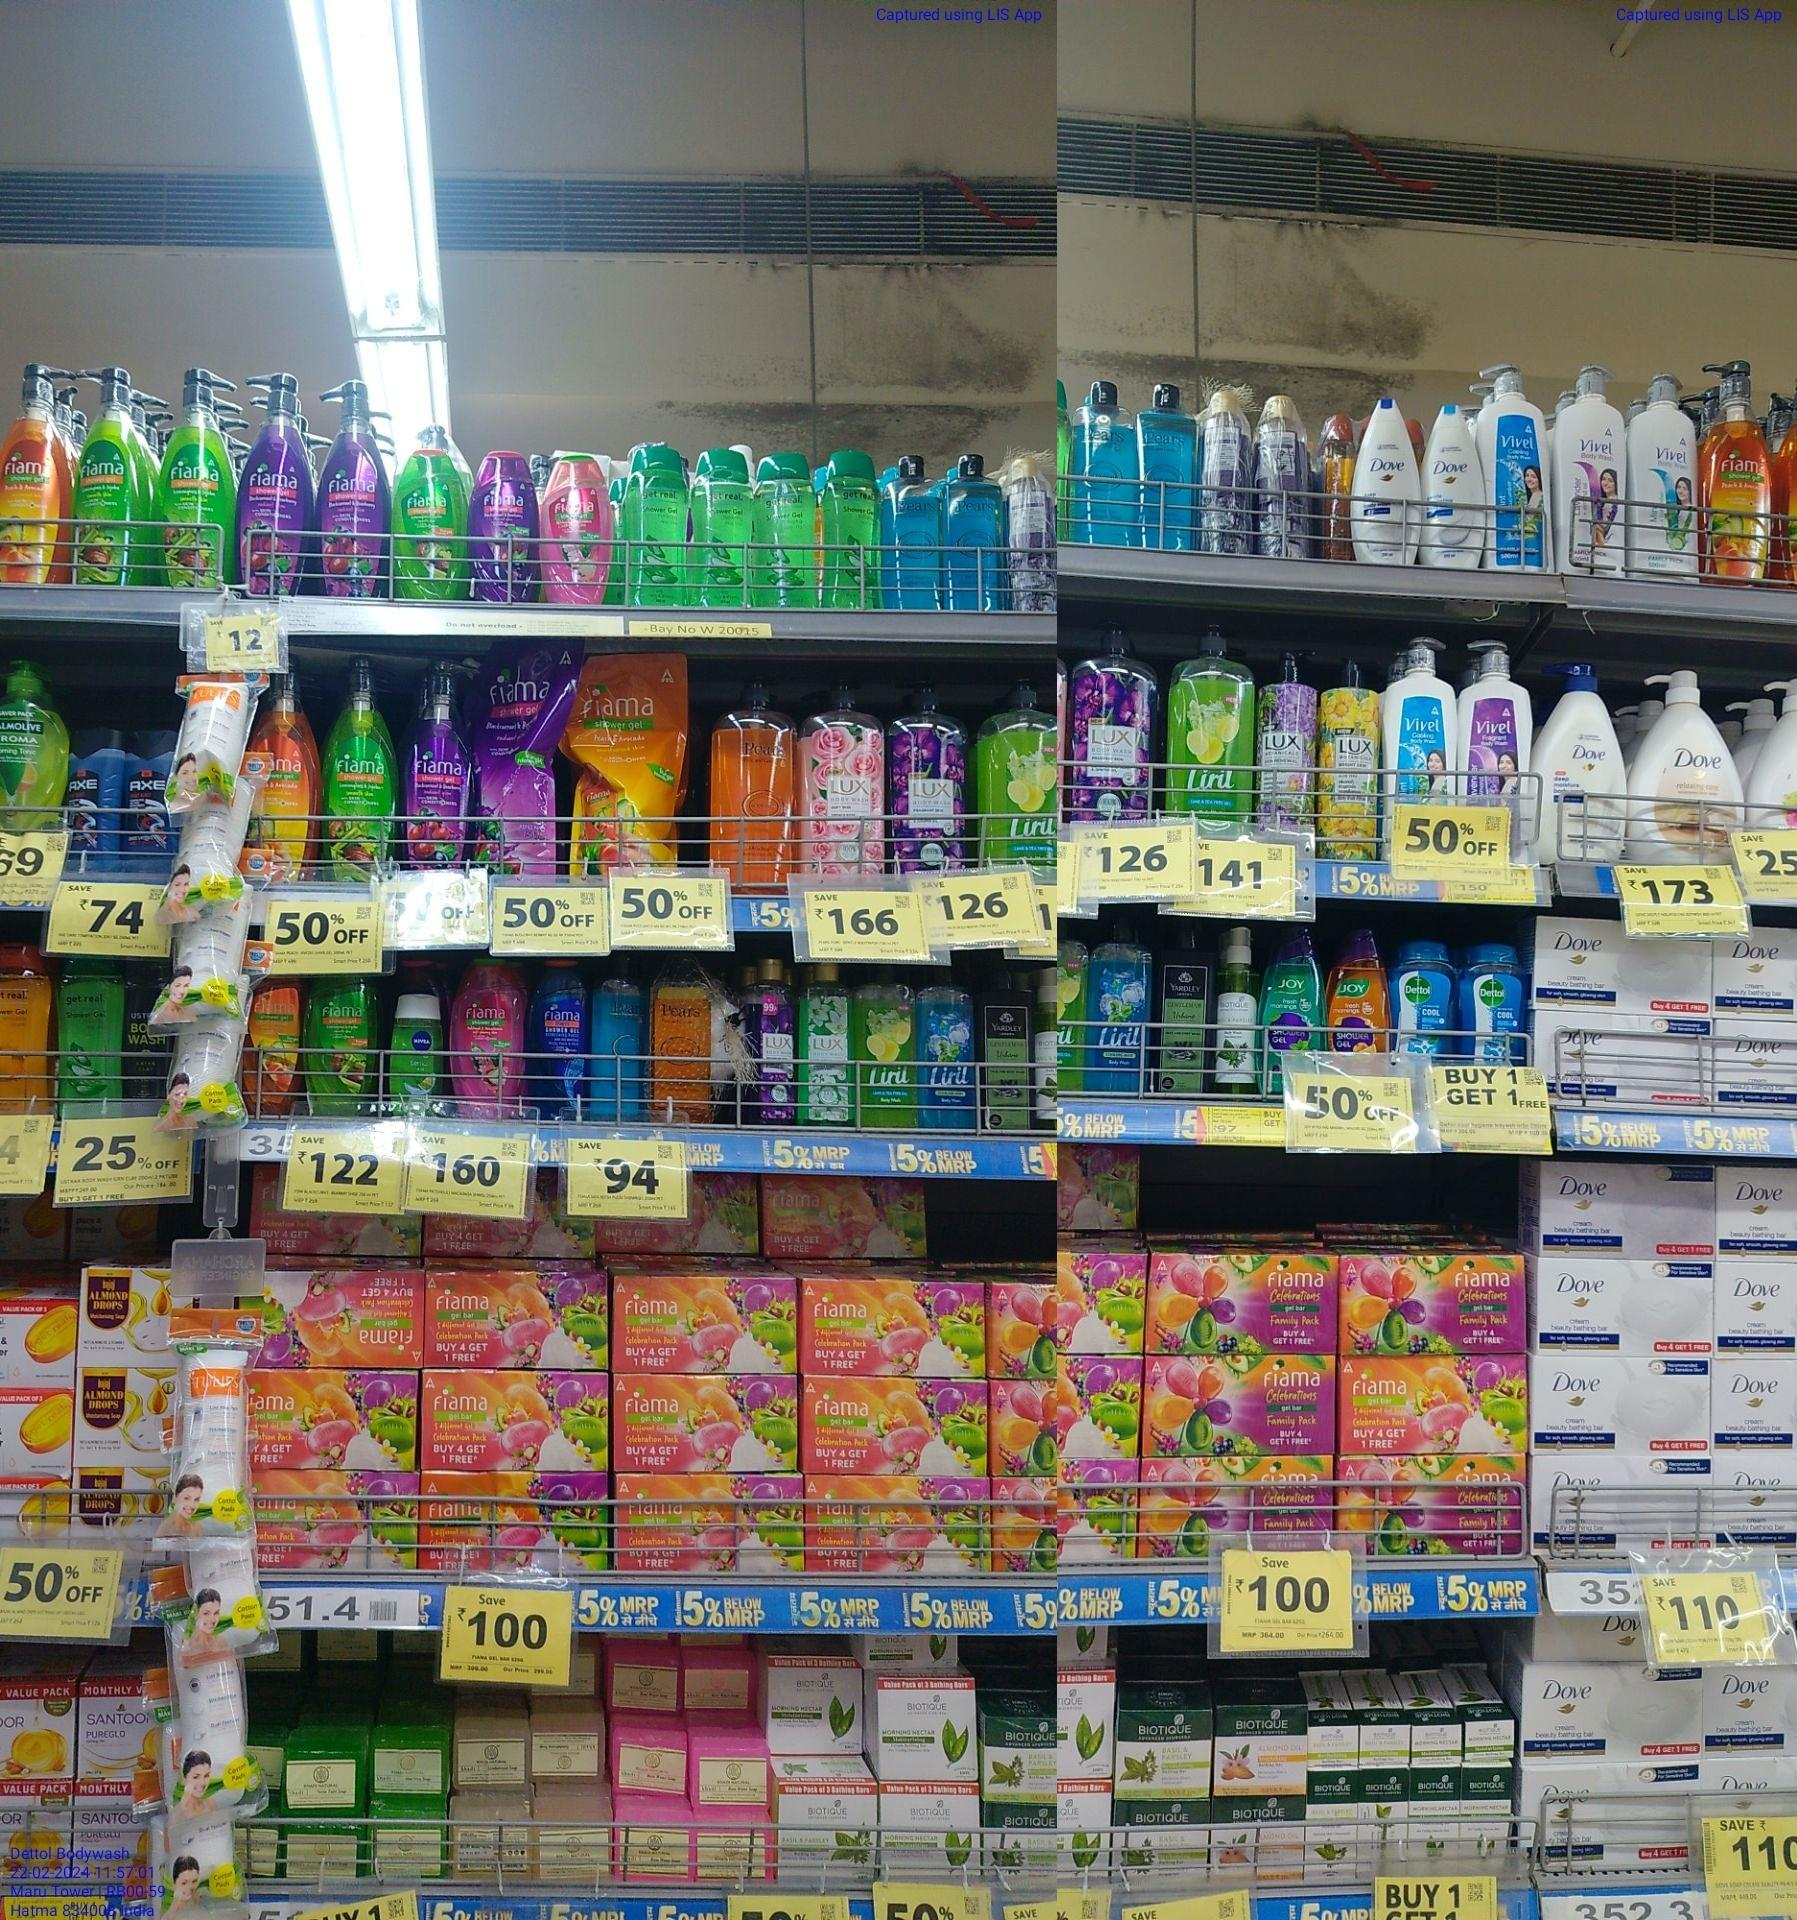Dettol_Bodywash_Cool: (1390, 930, 1458, 1062), (1461, 937, 1528, 1062)
Dove_Deep_Moisture_Body_Wash_250ML: (1353, 393, 1420, 567)
Dove_Gentle_Exfoliating_Body_Wash_250ML: (1422, 393, 1486, 569)
Fiama_Shower_Gel_Lemongrass_and_Jojoba_250ML: (395, 451, 471, 598), (302, 976, 373, 1111)
Fiama_Shower_Gel_Patchouli_and_Macadamia_250ML: (453, 952, 518, 1109), (544, 453, 608, 606)
Joy_Shower_Gel_Mandarin_and_Lemongrass_250ML: (1326, 922, 1387, 1054)
Joy_Shower_Gel_Mint_and_Eucalyptus_250ML: (1263, 919, 1324, 1054)
Liril_Cooling_Mint_Body_Wash_250ML: (920, 957, 975, 1131), (1089, 925, 1145, 1091)
Liril_Lime_and_Tea_Tree_Oil_Body_Wash_250ML: (858, 966, 917, 1125)
Lux_Black_Orchid_Scent_and_Juniper_Oil_Body_Wash_245ML: (746, 954, 792, 1126)
Lux_Body_Wash_Skin_Detox_Freesia_Scent_and_Alove_Vera_245ML: (797, 959, 853, 1123)
Pears_Pure_Glycerin_and_Mint_Extracts_Body_Wash_250ML: (1071, 378, 1137, 544), (882, 453, 942, 611), (944, 451, 1005, 610), (1142, 378, 1197, 551), (586, 959, 645, 1116)
